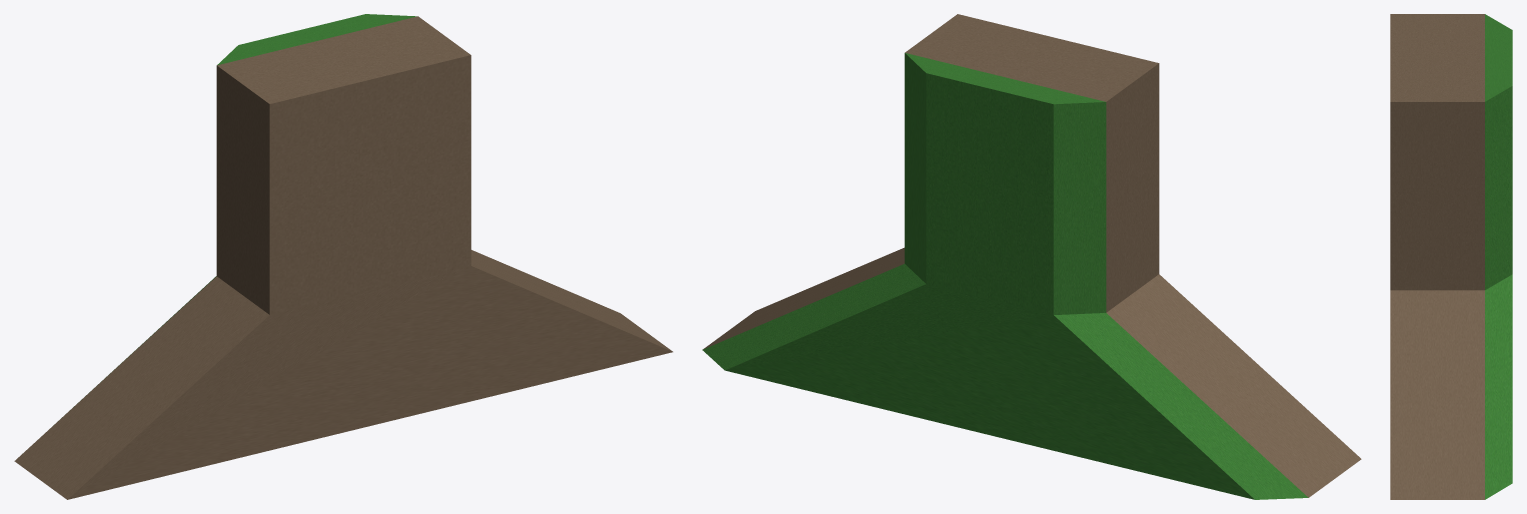
Rendered from de_green_1.fbx.
3 renders of one model, left to right at view 1: azimuth 30°, elevation 25°; view 2: azimuth 150°, elevation 25°; view 3: azimuth 270°, elevation 25°, orthographic. The views are drawn at different scales.
Visible parts, largest first — view 1: Cube.306; view 2: Cube.306; view 3: Cube.306.
Part boxes in pixels (bbox=[...]): Cube.306: bbox=[14, 14, 672, 499]; Cube.306: bbox=[702, 14, 1361, 499]; Cube.306: bbox=[1390, 14, 1512, 499].
Size of the model in its own units: 529 by 289 by 103.
